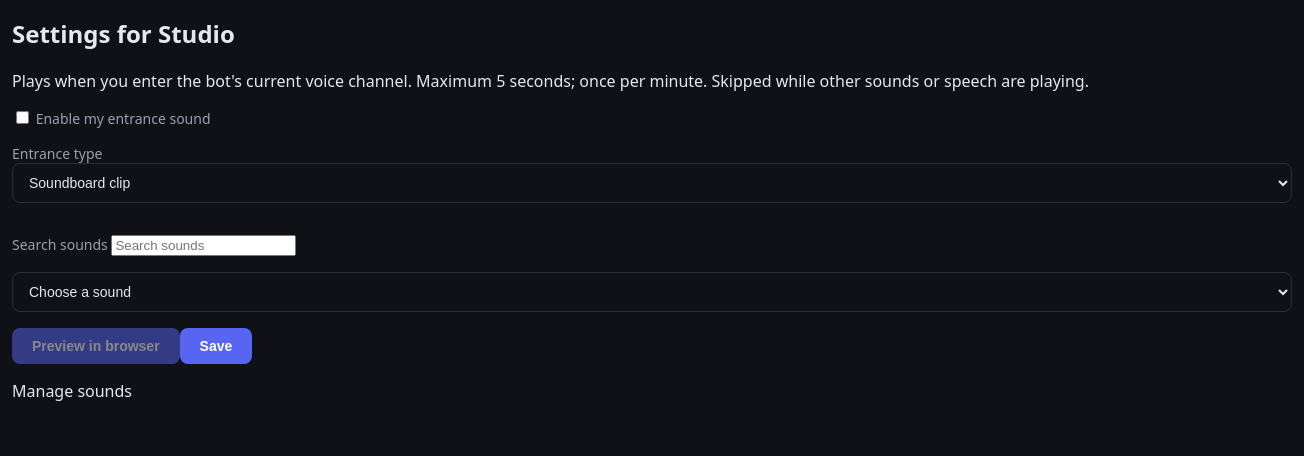
EntranceForm › shows eligible sounds and saves the explicit opt-in
Expected: the heading "Settings for Studio" is shown, [12, 17, 235, 50]
Select "Welcome (2s)" in the dropdown named "Entrance sound": (652, 292) [12, 272, 1292, 312]
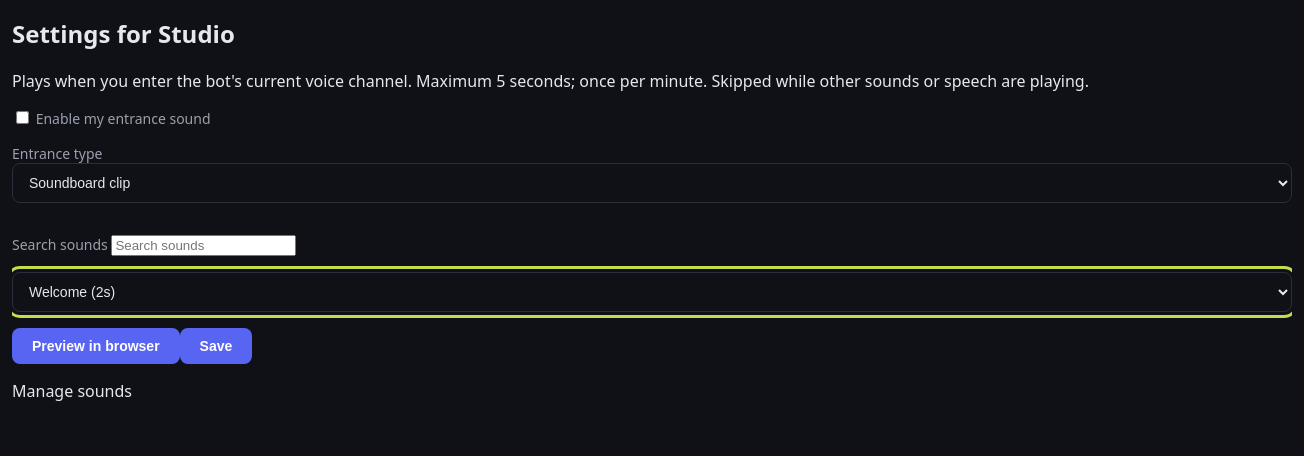
Click the checkbox labelled "Enable my entrance sound": (22, 117) [16, 111, 29, 124]
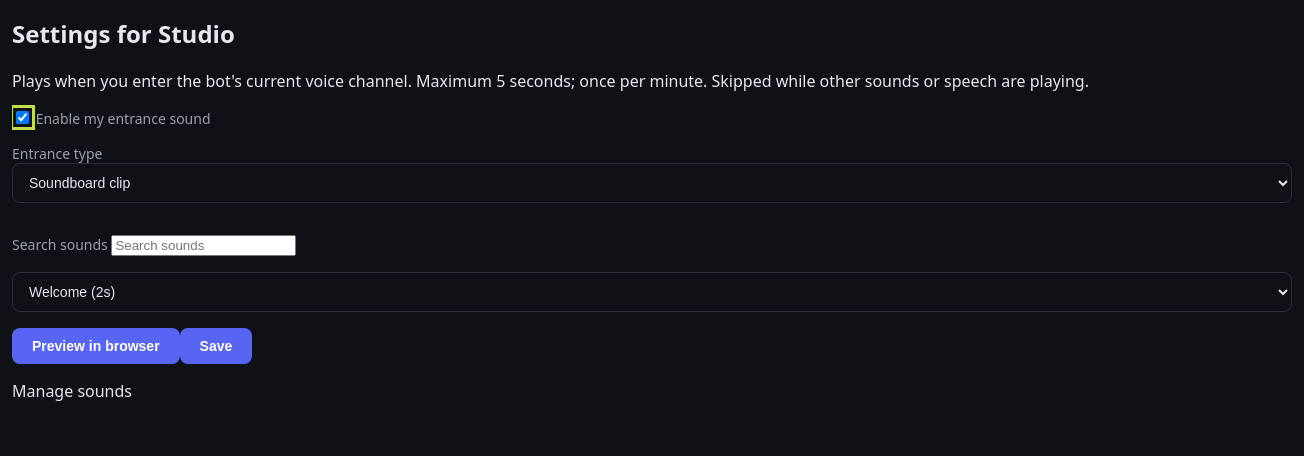
Click the button "Save": (216, 346) [180, 328, 252, 364]
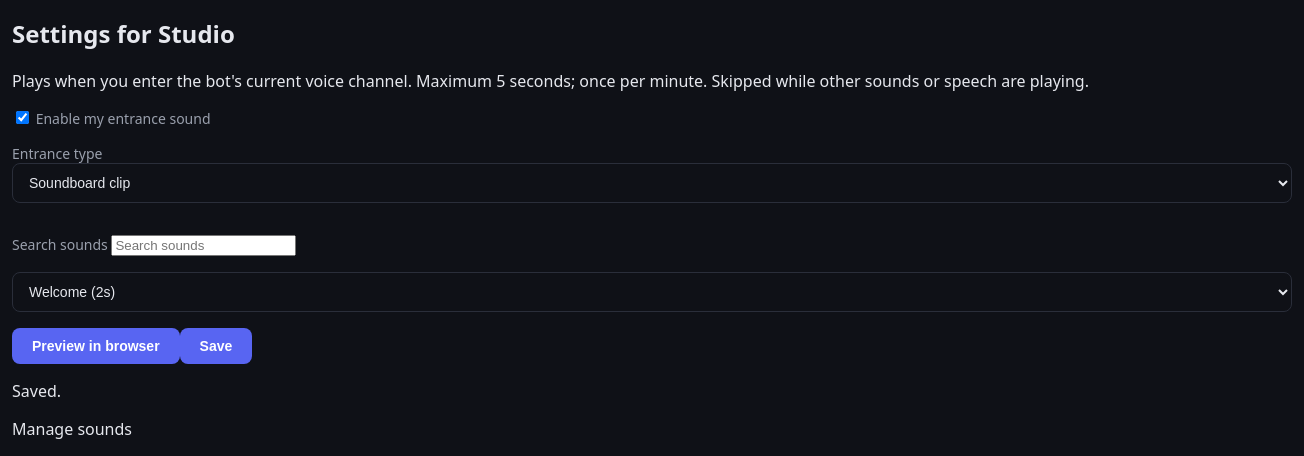
Expected: the message reads "Saved.", [12, 380, 61, 402]
